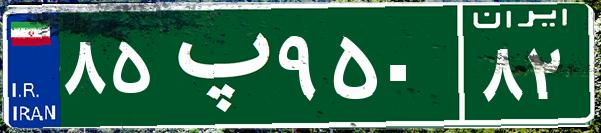0: (385, 28, 445, 110)
2: (525, 38, 570, 115)
5: (330, 28, 385, 110), (110, 28, 158, 105)
8: (57, 26, 110, 107), (475, 38, 525, 113)
9: (273, 28, 330, 110)
پ: (158, 15, 273, 115)
